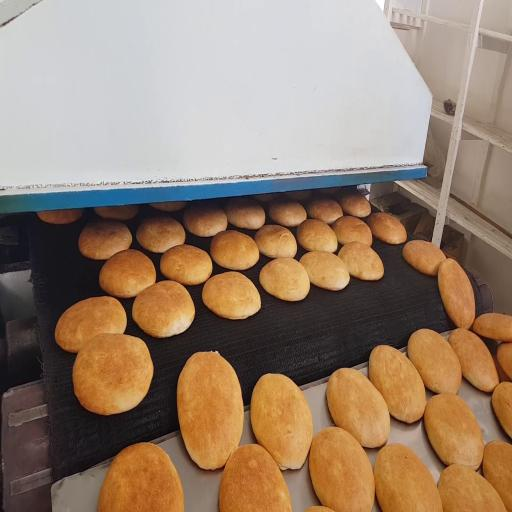bread: (177, 352, 243, 469), (73, 334, 153, 415), (251, 374, 313, 469), (98, 443, 184, 511), (309, 427, 374, 511), (327, 368, 390, 447), (219, 444, 291, 511), (374, 444, 442, 511), (424, 394, 483, 469), (369, 346, 425, 423), (55, 297, 126, 353), (132, 281, 194, 338), (408, 329, 461, 393), (448, 329, 499, 392), (438, 465, 506, 511), (202, 272, 261, 319), (99, 249, 155, 298), (438, 259, 475, 329), (260, 258, 310, 301), (160, 245, 212, 285), (79, 221, 132, 260), (483, 441, 511, 511), (211, 230, 259, 270), (300, 251, 349, 290), (136, 216, 186, 253), (338, 242, 383, 280), (183, 203, 227, 237), (403, 240, 445, 275), (255, 225, 297, 258), (297, 219, 337, 252), (224, 198, 265, 229), (367, 212, 406, 244), (332, 216, 372, 246), (472, 313, 511, 342), (492, 382, 511, 438), (269, 201, 306, 227), (307, 198, 342, 224), (340, 193, 371, 218), (37, 209, 82, 224), (94, 205, 138, 220), (492, 353, 510, 382), (497, 343, 511, 379), (149, 201, 187, 212), (285, 190, 311, 201), (252, 193, 279, 202), (317, 187, 340, 195), (306, 506, 333, 511)
